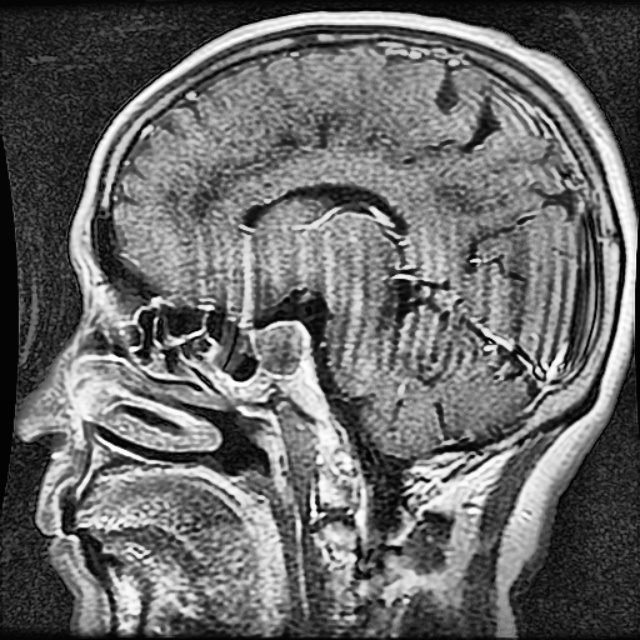Pituitary: (252, 320, 304, 373)
